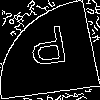P: (25, 24, 72, 76)
